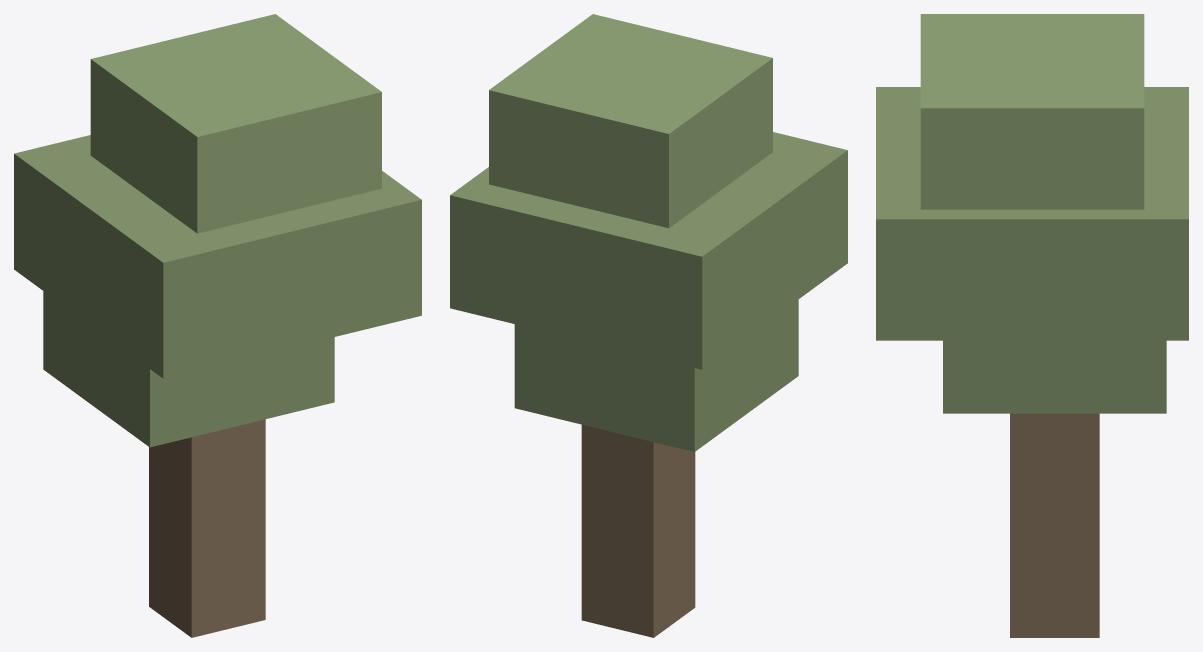
Rendered from avellano_01.glb.
3 renders of one model, left to right at view 1: azimuth 30°, elevation 25°; view 2: azimuth 150°, elevation 25°; view 3: azimuth 270°, elevation 25°, orthographic. The views are drawn at different scales.
Visible parts, largest first — view 1: avellano_01; view 2: avellano_01; view 3: avellano_01.
Boxes of the visible parts, x1=… form: avellano_01: x1=14, y1=14, x2=421, y2=637; avellano_01: x1=450, y1=14, x2=847, y2=637; avellano_01: x1=876, y1=14, x2=1188, y2=637.
Bounding box in the file's own units: 1.4 × 2.8 × 1.4.
